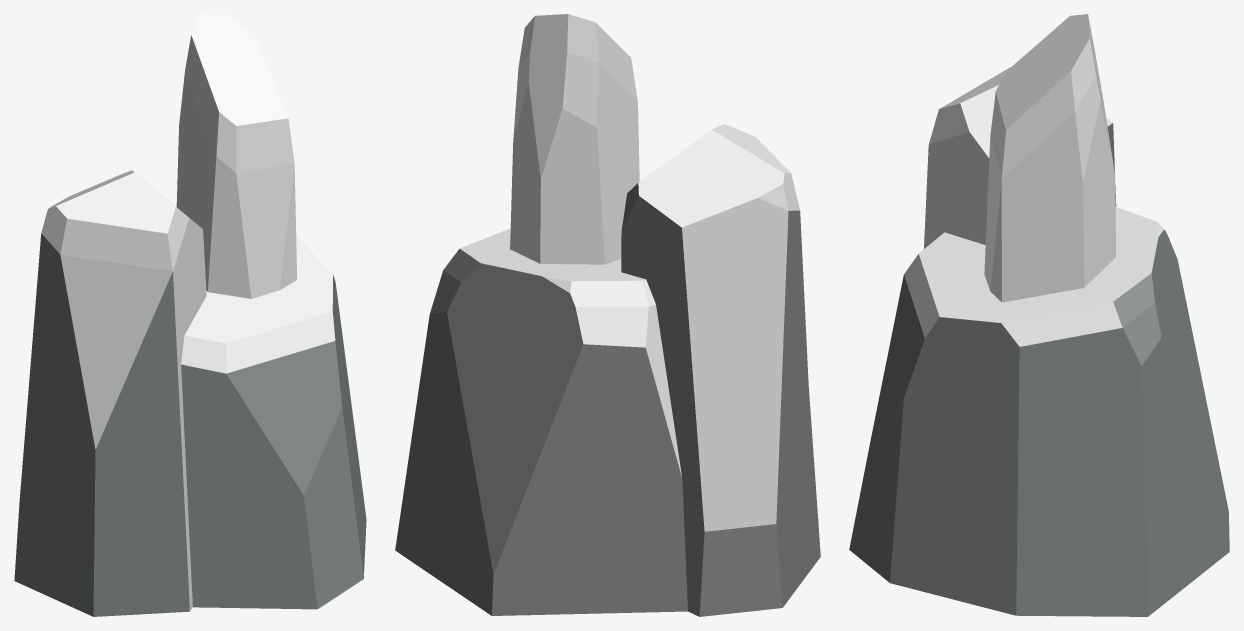
File: Frost_1x1C.fbx
3 views of the same model, side by side, from view 1: azimuth 30°, elevation 25°; view 2: azimuth 150°, elevation 25°; view 3: azimuth 270°, elevation 25° (orthographic). The views are drawn at different scales.
Parts seen in each view (by area): view 1: xueshan_shitou_1_1; view 2: xueshan_shitou_1_1; view 3: xueshan_shitou_1_1.
Boxes of the visible parts, x1,y1,x2,y2 form: xueshan_shitou_1_1: (14, 14, 366, 616); xueshan_shitou_1_1: (395, 14, 820, 616); xueshan_shitou_1_1: (849, 14, 1229, 616).
Bounding box in the file's own units: 196 × 296 × 190.
1 material, 1 textured.
